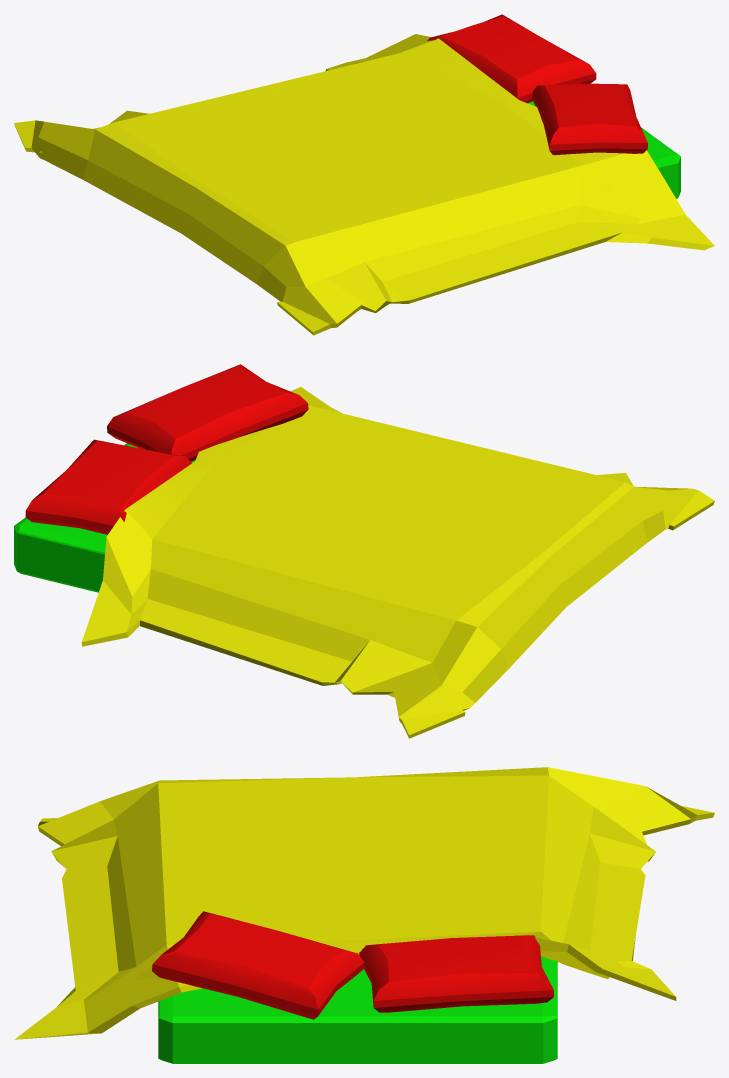
The model's file is nana_mattress.fbx.
3 views of the same model, one above another, from view 1: azimuth 30°, elevation 25°; view 2: azimuth 150°, elevation 25°; view 3: azimuth 270°, elevation 25° (orthographic). The views are drawn at different scales.
Visible parts, largest first — view 1: blanket, pillows, mattress; view 2: blanket, pillows, mattress; view 3: blanket, pillows, mattress.
Part boxes in pixels (x1,y1,x2,y2): blanket: [14, 34, 714, 335]; pillows: [427, 14, 647, 155]; mattress: [528, 101, 680, 198]; blanket: [81, 387, 714, 738]; pillows: [25, 364, 308, 534]; mattress: [14, 443, 195, 592]; blanket: [14, 767, 714, 1039]; pillows: [152, 911, 553, 1019]; mattress: [158, 956, 557, 1063].
Size of the model in its own units: 226 by 38.36 by 253.
